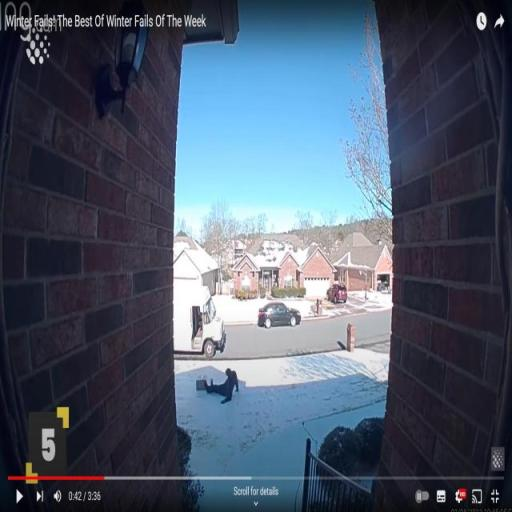Fall: (202, 367, 241, 406)
